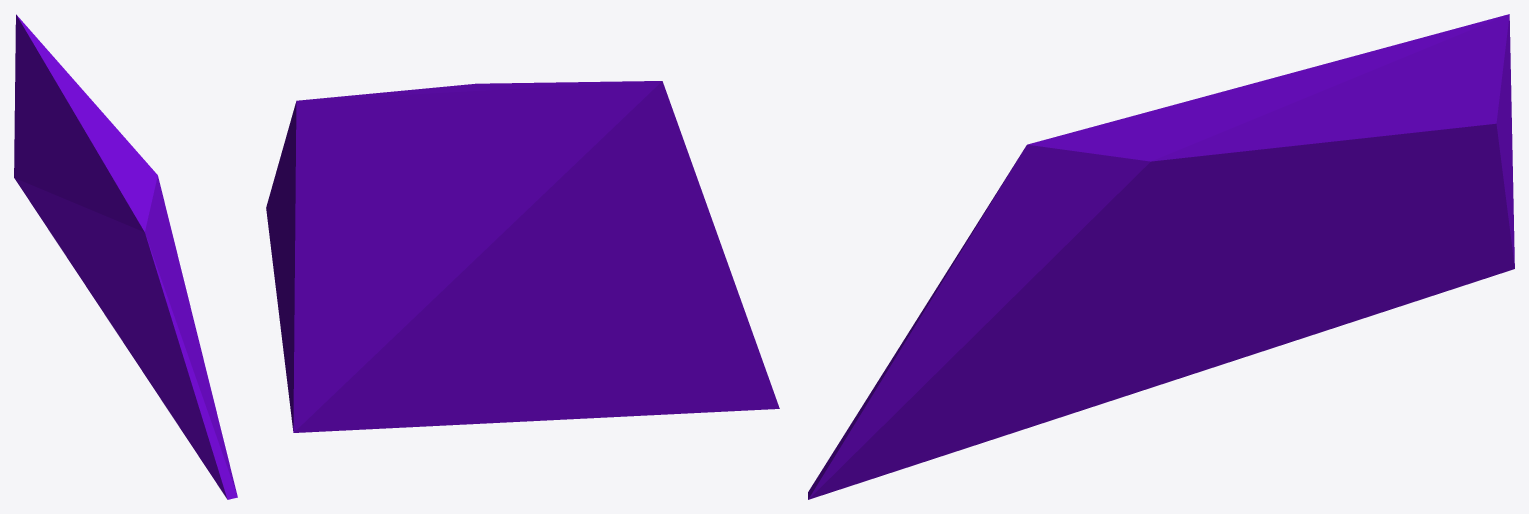
The model's file is arm-L1_convex_piece_037.obj.
3 renders of one model, left to right at view 1: azimuth 30°, elevation 25°; view 2: azimuth 150°, elevation 25°; view 3: azimuth 270°, elevation 25°, orthographic. The views are drawn at different scales.
Bounding box in the file's own units: 0.00312 × 0.0178 × 0.0233.
